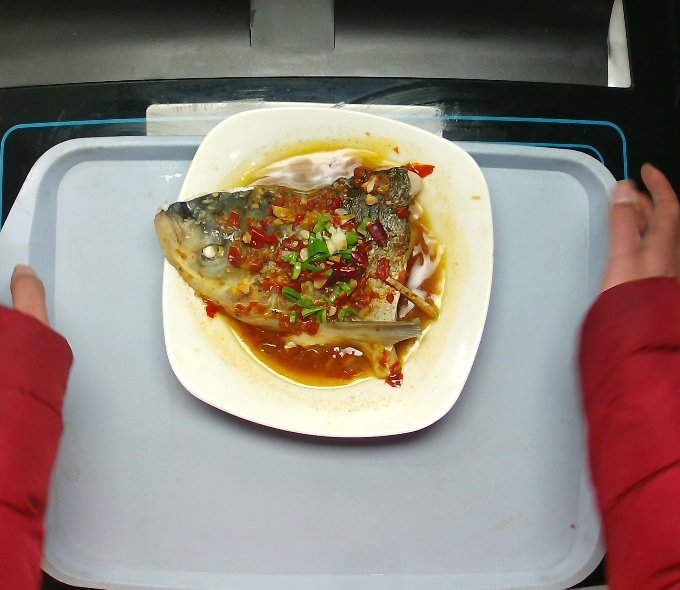wcq-DuoJiaoYuTou: (146, 129, 446, 402)
